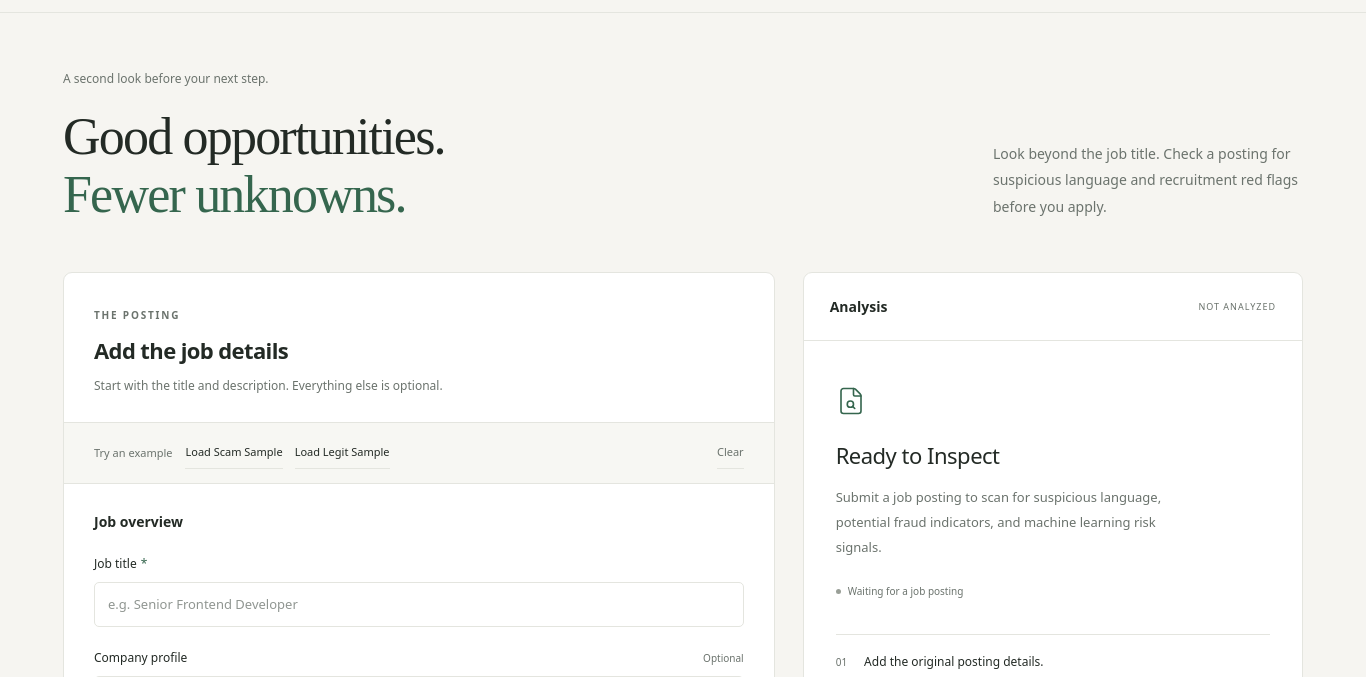
Test: workspace › submits exactly ten trimmed keys, renders fraud, confidence, and every warning
Click the button "Load Scam Sample".
click(234, 453)  # box [186,437,283,469]
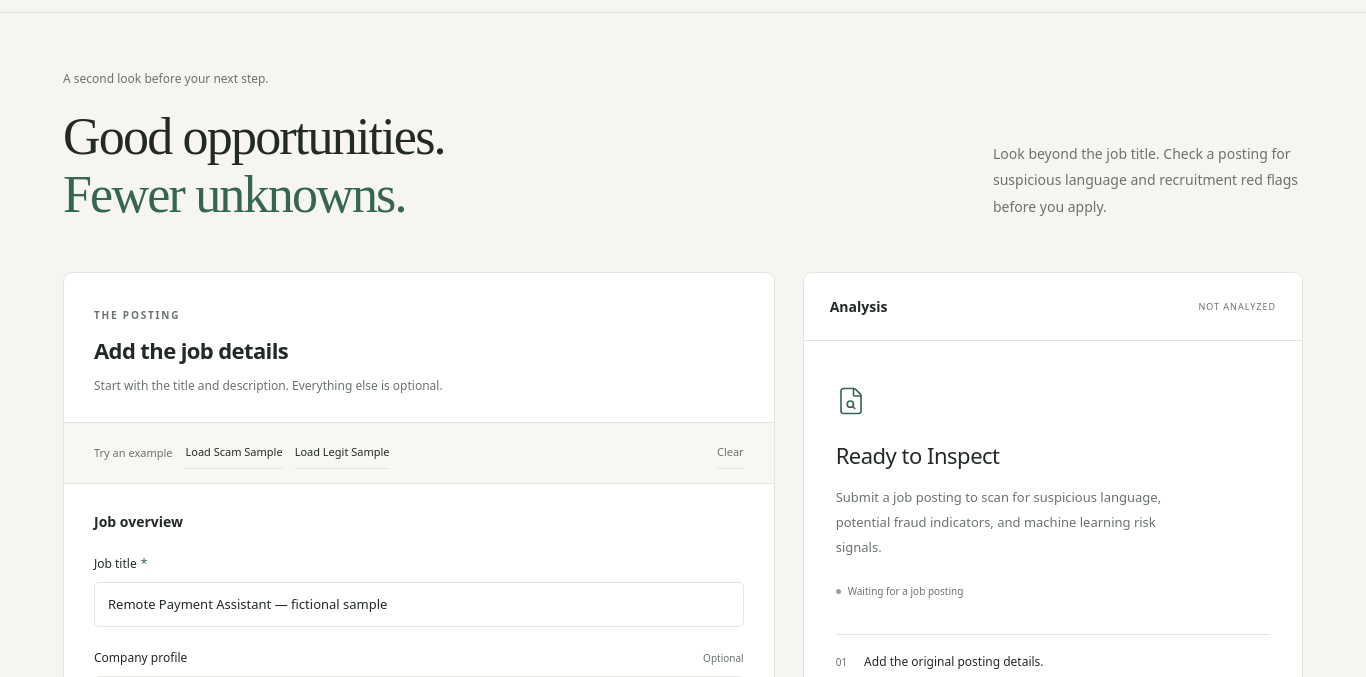
Replace the text in the field labelled "Job title *" with "  Example  " at [419, 605], box [94,582,744,627]
(page scrolled)
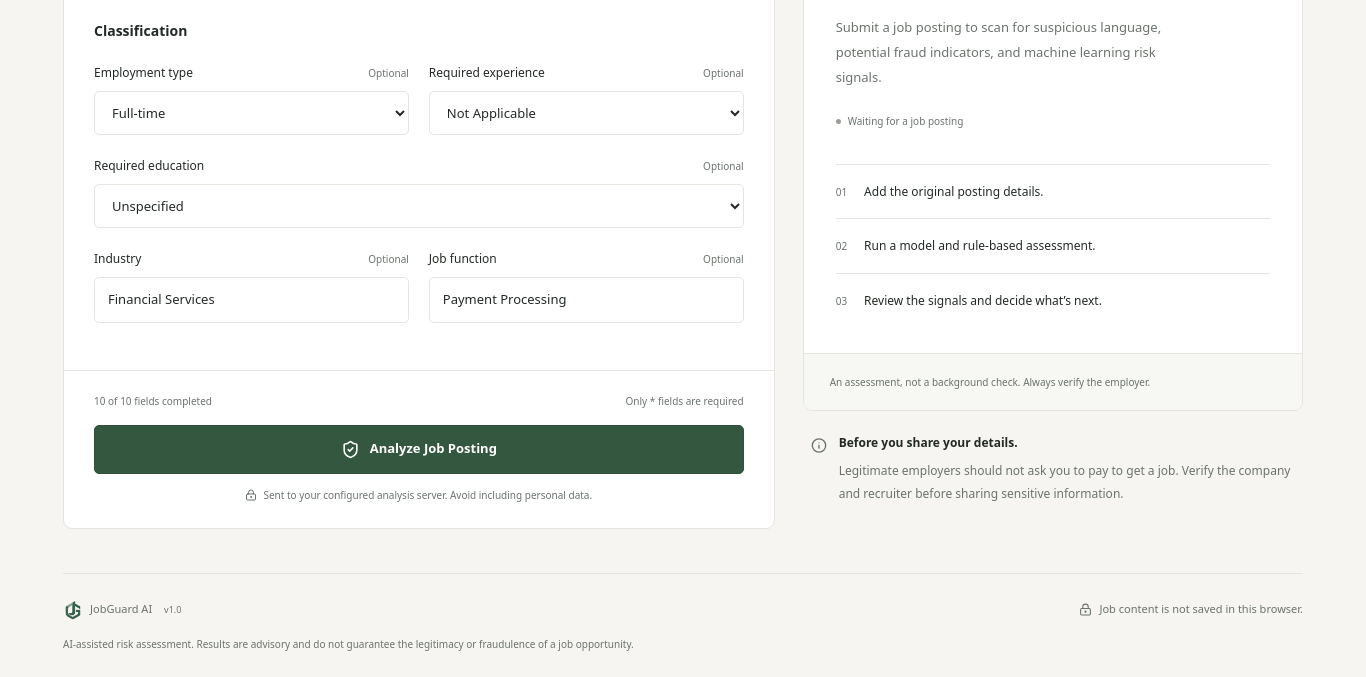
Click the button "Analyze Job Posting".
click(419, 449)  # box [94,424,744,474]
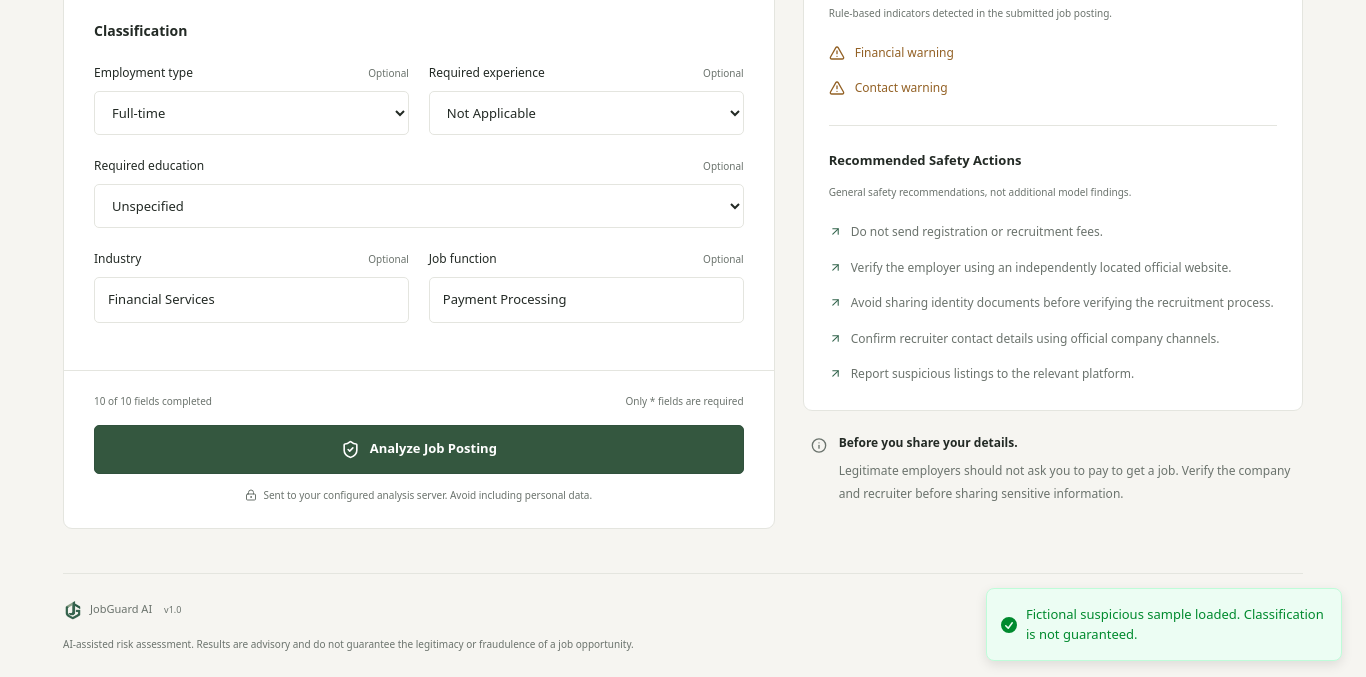
Check: the text "Financial warning" is shown, box [855,42,954,64]
Check: the text "Contact warning" is shown, box [855,77,948,98]
